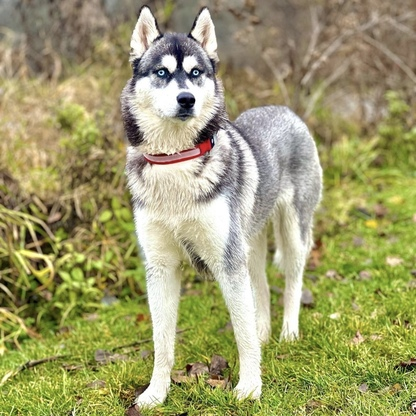husky: (114, 2, 326, 412)
